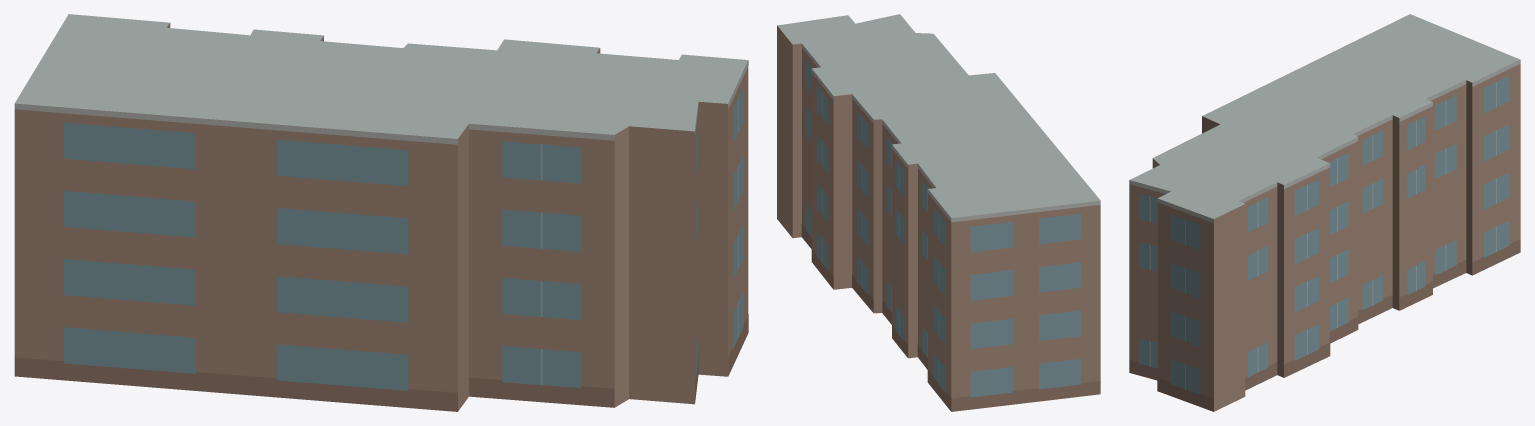
The model's file is survey-upis-32496781.glb.
3 renders of one model, left to right at view 1: azimuth 30°, elevation 25°; view 2: azimuth 150°, elevation 25°; view 3: azimuth 270°, elevation 25°, orthographic. The views are drawn at different scales.
Parts seen in each view (by area): view 1: survey-upis-32496781.tmp; view 2: survey-upis-32496781.tmp; view 3: survey-upis-32496781.tmp.
Part boxes in pixels (box(x1,y1,x2,y2)): survey-upis-32496781.tmp: box(14, 14, 748, 411); survey-upis-32496781.tmp: box(777, 14, 1100, 411); survey-upis-32496781.tmp: box(1129, 14, 1520, 411).
Size of the model in its own units: 26.25 by 11.5 by 21.16.
